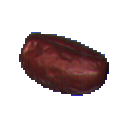ng: (14, 25, 115, 103)
